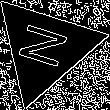N_E: (14, 21, 75, 75)
